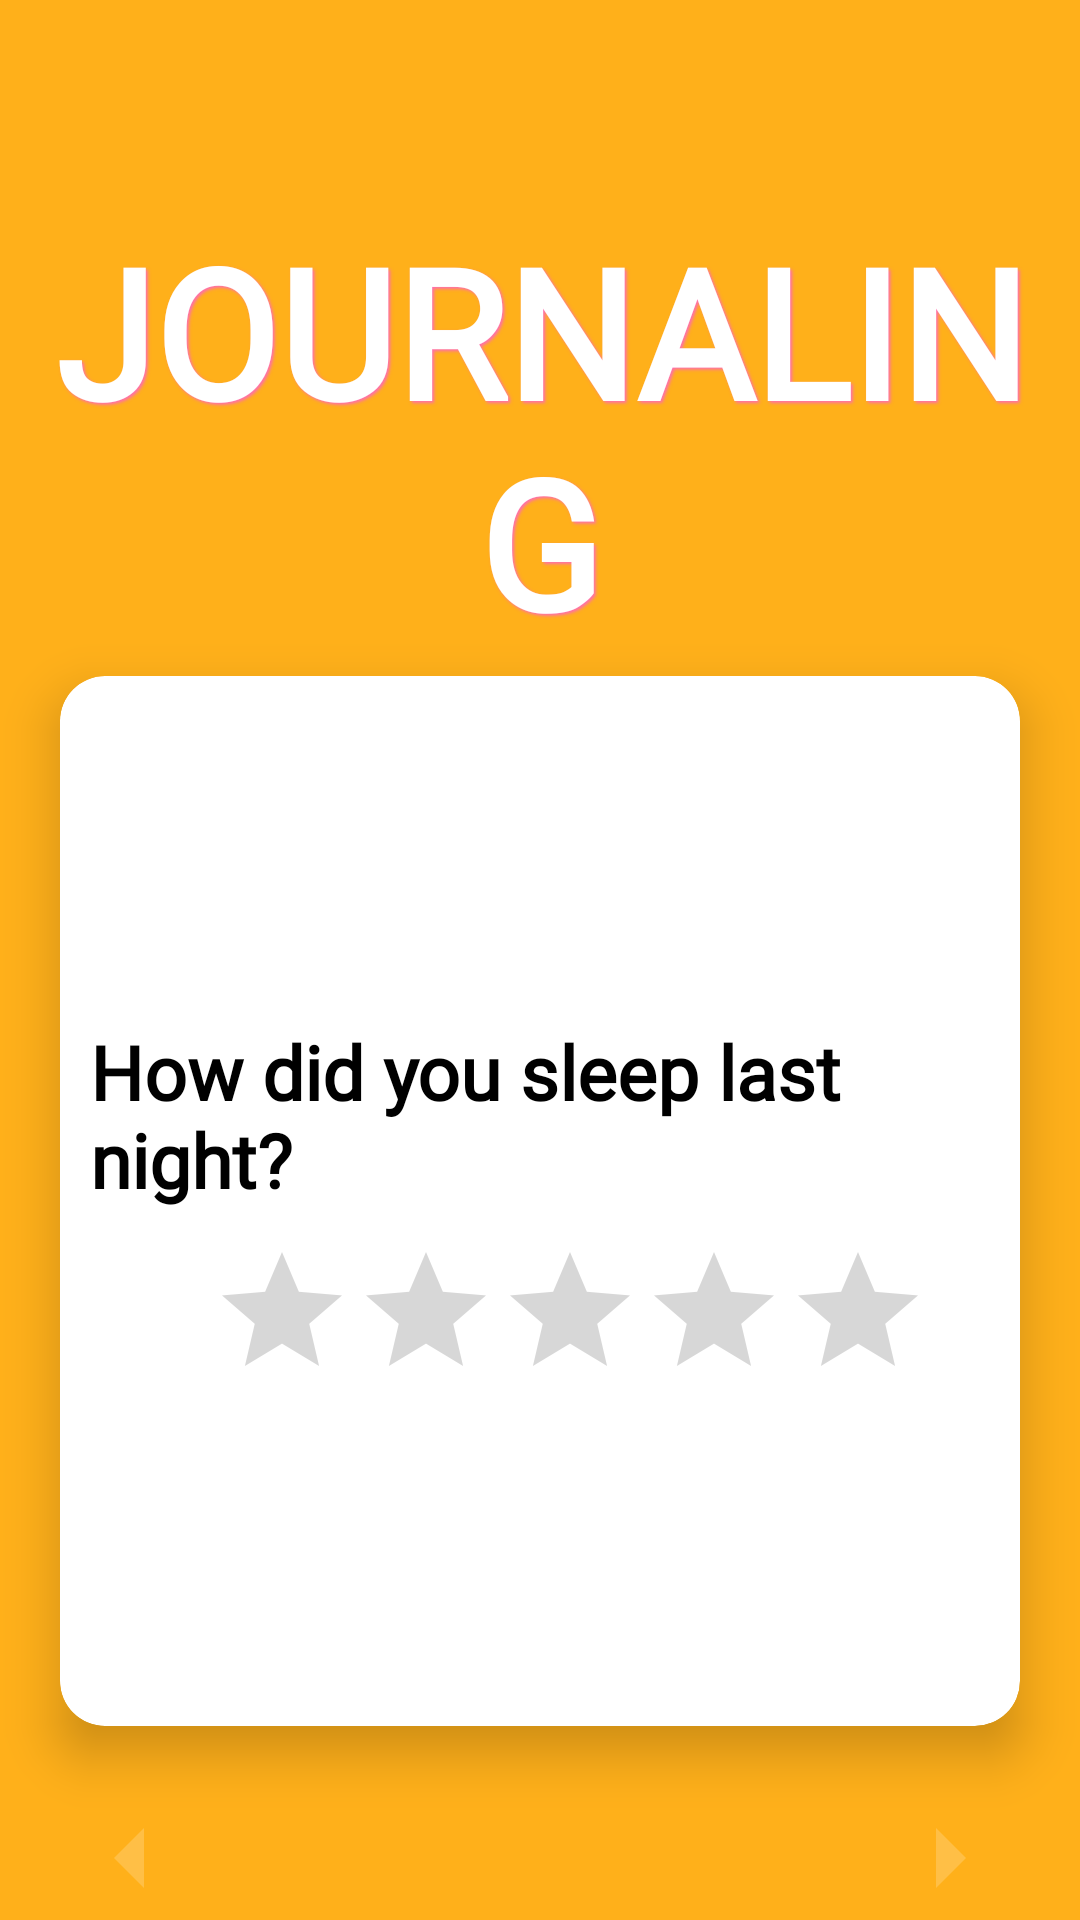

Where to tap for icons on this 1080*1920 app screen, as (x,y):
arrow left: (129,1858)
arrow right: (950,1858)
